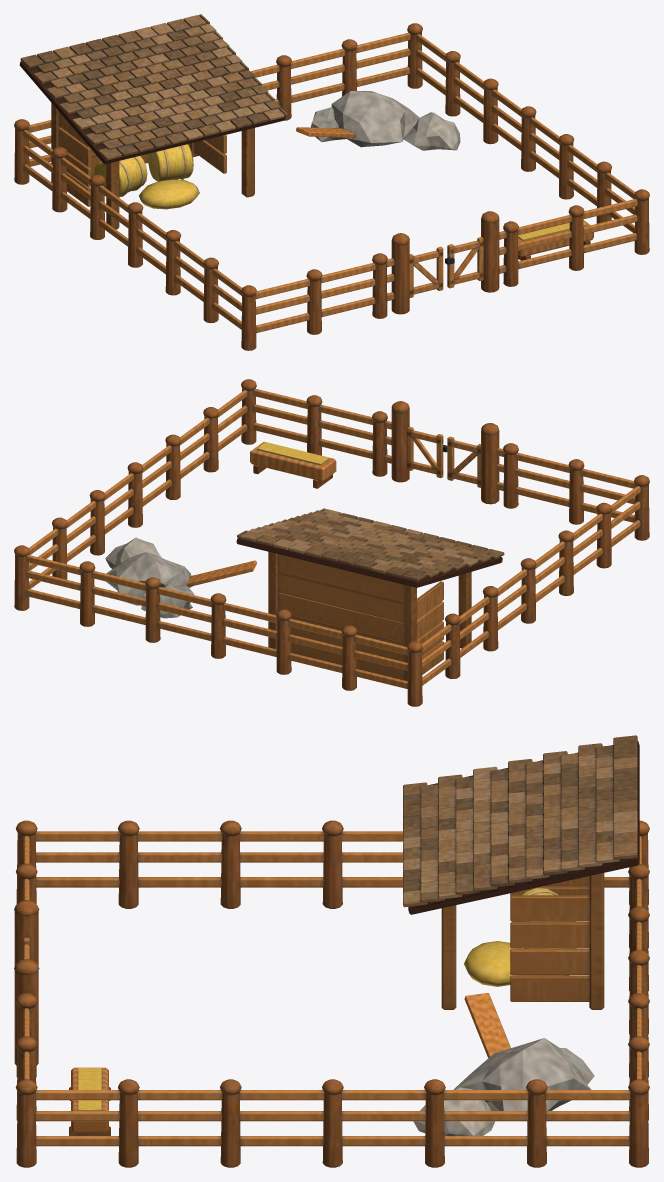
File: cashmere_yard.glb
3 views of the same model, one above another, from view 1: azimuth 30°, elevation 25°; view 2: azimuth 150°, elevation 25°; view 3: azimuth 270°, elevation 25° (orthographic). The views are drawn at different scales.
Visible parts, largest first — view 1: cashmere_yard, gate1, gate0; view 2: cashmere_yard, gate1, gate0; view 3: cashmere_yard.
Boxes of the visible parts, x1=… form: cashmere_yard: x1=14, y1=14, x2=649, y2=350; gate1: x1=445, y1=236, x2=483, y2=288; gate0: x1=409, y1=246, x2=443, y2=297; cashmere_yard: x1=14, y1=379, x2=649, y2=706; gate1: x1=407, y1=426, x2=447, y2=477; gate0: x1=447, y1=436, x2=480, y2=487; cashmere_yard: x1=14, y1=735, x2=649, y2=1167.
Size of the model in its own units: 3 by 0.9345 by 3.01.
1 material, 1 textured.
